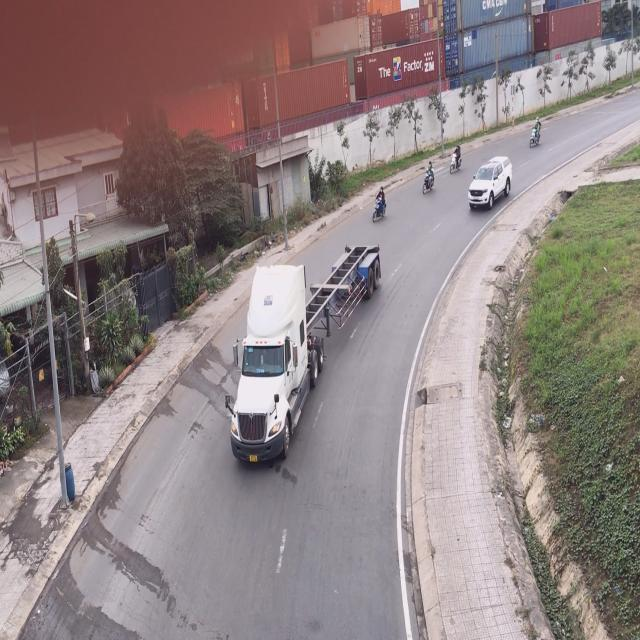car: (470, 162, 513, 216)
motorbike: (373, 186, 389, 226), (423, 161, 436, 197), (529, 117, 543, 150), (451, 140, 463, 174)
truck: (231, 246, 384, 465)
